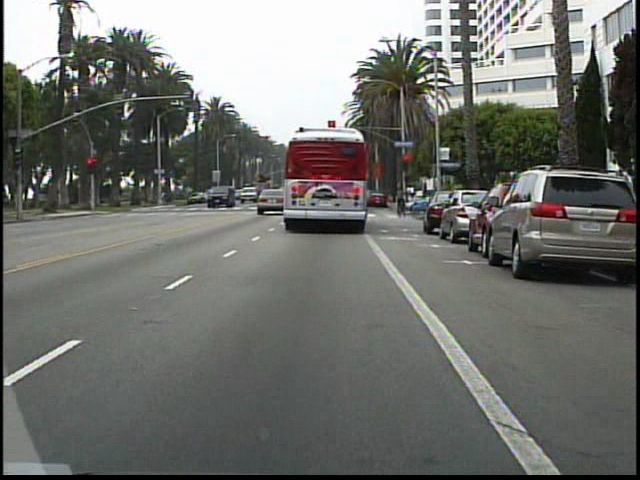person: (391, 184, 409, 217)
